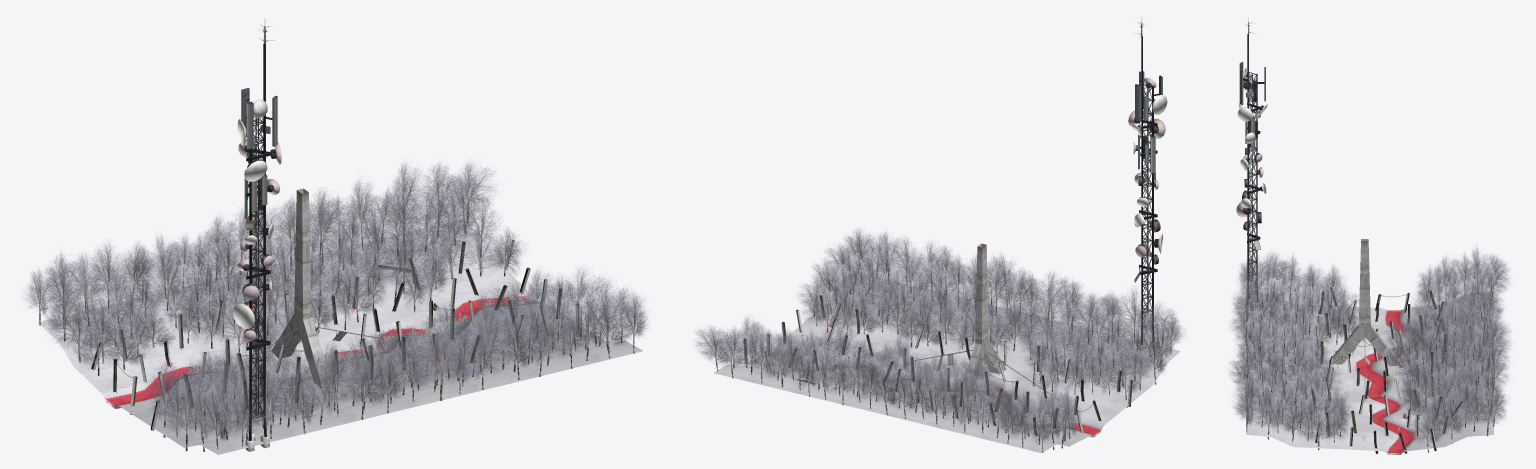
Rendered from ash.glb.
The picture shows the model from 3 angles, left to right: view 1: azimuth 30°, elevation 25°; view 2: azimuth 150°, elevation 25°; view 3: azimuth 270°, elevation 25°; orthographic projection. The views are drawn at different scales.
Parts seen in each view (by area): view 1: snow_trees_leaves, snow, snow_trees, transmission, metal_beam, nexus, transmission_connection, river, snowbound; view 2: snow_trees_leaves, snow, snow_trees, metal_beam, transmission, nexus, transmission_connection, snowbound; view 3: snow_trees_leaves, snow, snow_trees, metal_beam, transmission, nexus, river, transmission_connection.
Boxes of the visible parts, x1,y1,x2,y2 form: snow_trees_leaves: (23,161,647,442); snow: (38,219,642,454); snow_trees: (39,187,634,451); transmission: (241,21,277,451); metal_beam: (91,240,579,430); nexus: (271,188,332,389); transmission_connection: (232,99,281,341); river: (104,296,528,407); snowbound: (38,296,642,454); snow_trees_leaves: (697,229,1184,446); snow: (714,271,1179,452); snow_trees: (714,254,1171,452); metal_beam: (743,295,1132,441); transmission: (1135,17,1162,350); nexus: (957,243,1006,397); transmission_connection: (1128,77,1167,264); snowbound: (714,350,1179,452); snow_trees_leaves: (1229,248,1511,445); snow: (1246,292,1493,454); snow_trees: (1244,274,1495,452); metal_beam: (1310,287,1463,453); transmission: (1239,18,1265,311); nexus: (1329,239,1399,366); river: (1356,310,1415,452); transmission_connection: (1236,67,1267,230).
Bounding box in the file's own units: 174 × 154 × 134.
Materials: 22 (20 with a texture image).
